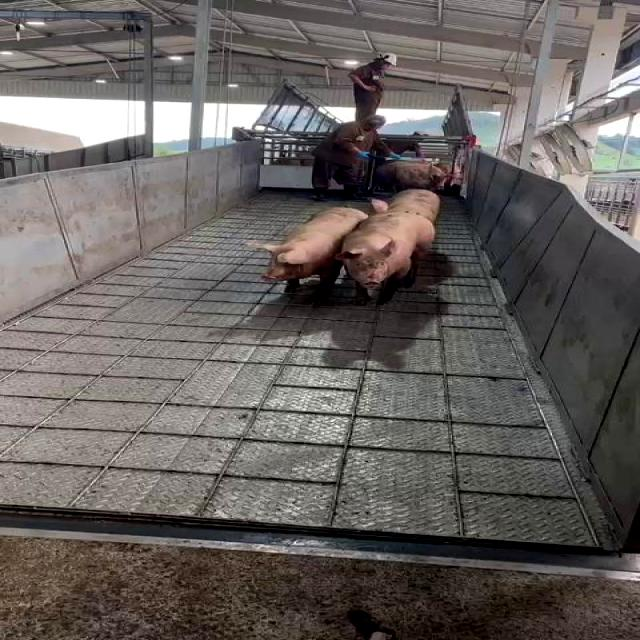pig: (248, 208, 367, 303), (339, 211, 434, 303), (382, 189, 439, 224)
